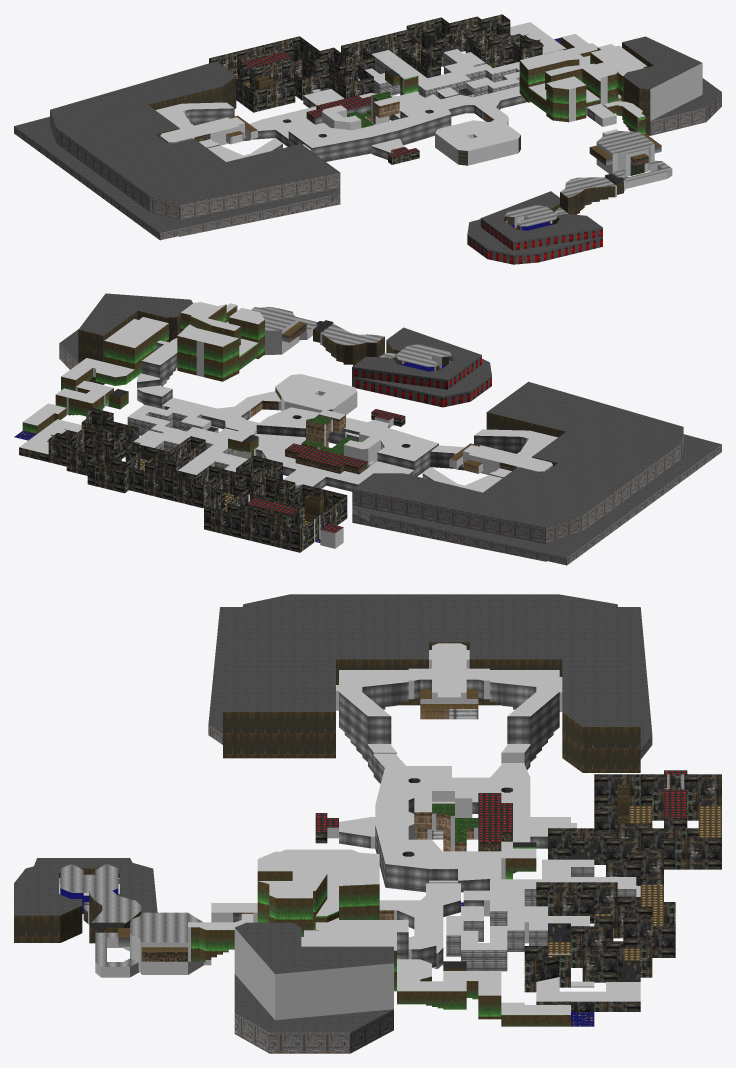
File: Doom1_E1M2.fbx
3 renders of one model, top to bottom at view 1: azimuth 30°, elevation 25°; view 2: azimuth 150°, elevation 25°; view 3: azimuth 270°, elevation 25°, orthographic. The views are drawn at different scales.
Parts seen in each view (by area): view 1: E1M2; view 2: E1M2; view 3: E1M2.
Boxes of the visible parts, x1,y1,x2,y2 form: E1M2: (14, 14, 721, 264); E1M2: (14, 293, 721, 565); E1M2: (14, 594, 721, 1053).
Bounding box in the file's own units: 10624 × 1488 × 7808.
